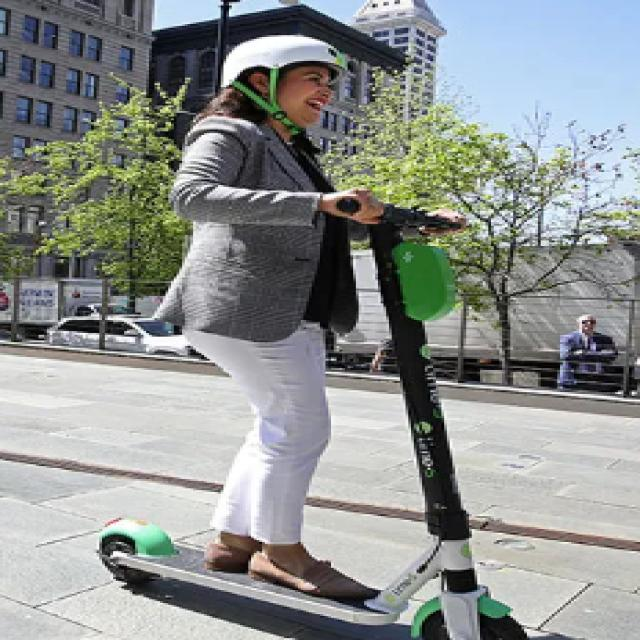helmet: (56, 17, 564, 640)
